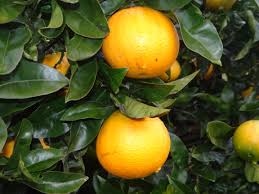orange: (106, 7, 173, 82), (100, 107, 166, 180)
